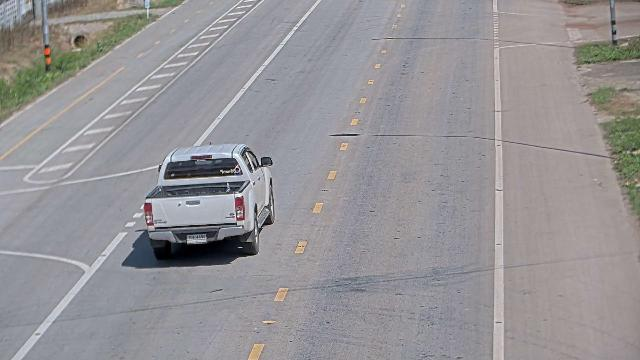pickup-truck: (143, 142, 275, 259)
